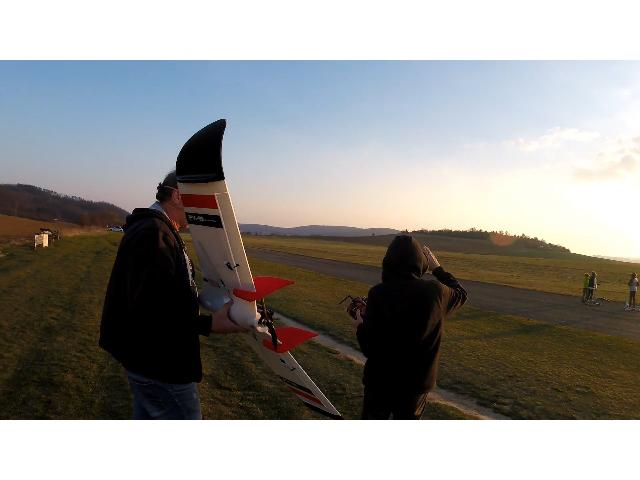Anti-Drone: (160, 115, 346, 419)
